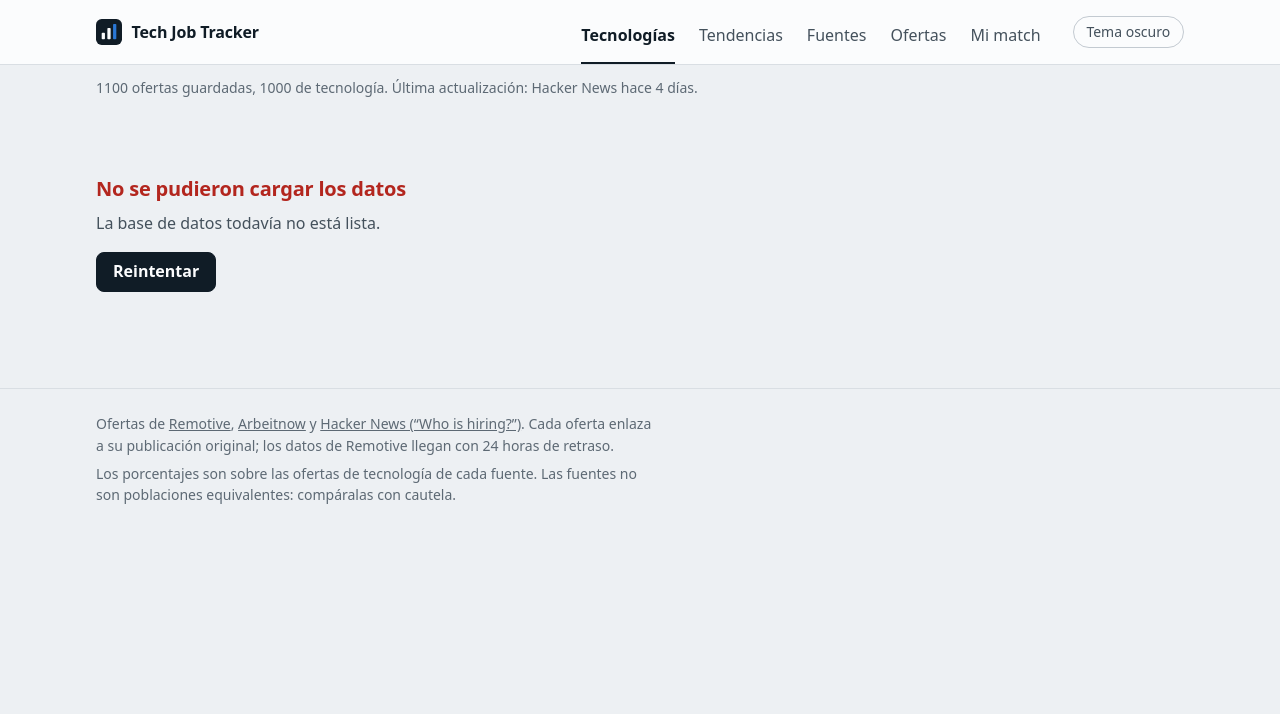
Test: Ranking › si la API falla muestra el mensaje real, avisa con role=alert y permite reintentar
Expected: the text "La base de datos todavía no está lista." is shown, [96,212,380,234]
Click the button "Reintentar" at (156, 272), box [96,252,216,292]
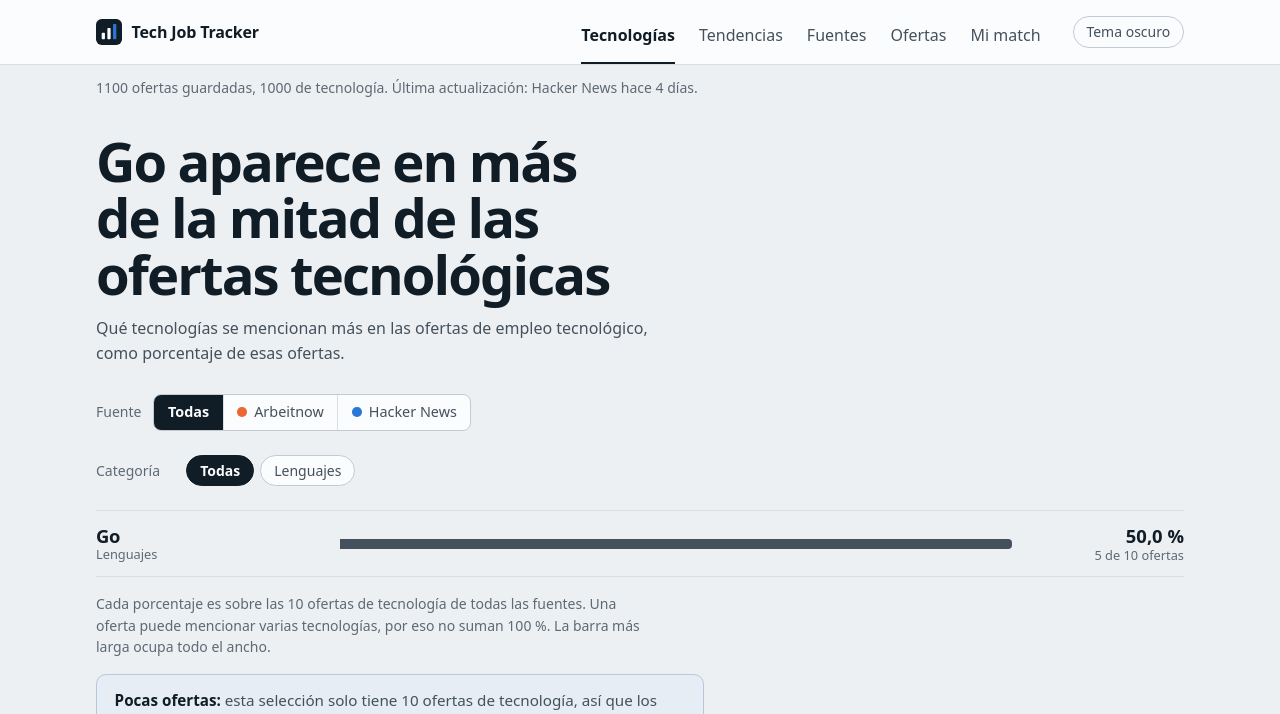
Expected: the text "Go" is shown, [96,523,120,548]
Expected: the message is gone
